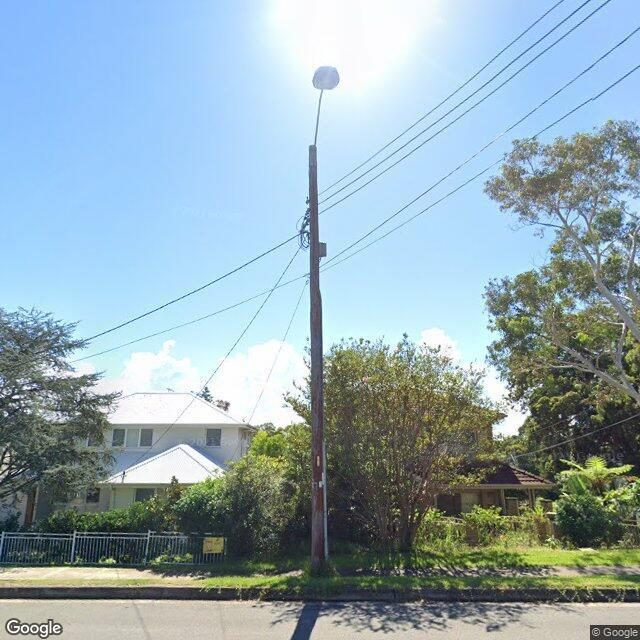streetlight: (310, 64, 340, 170)
timber-pole: (310, 145, 326, 574)
